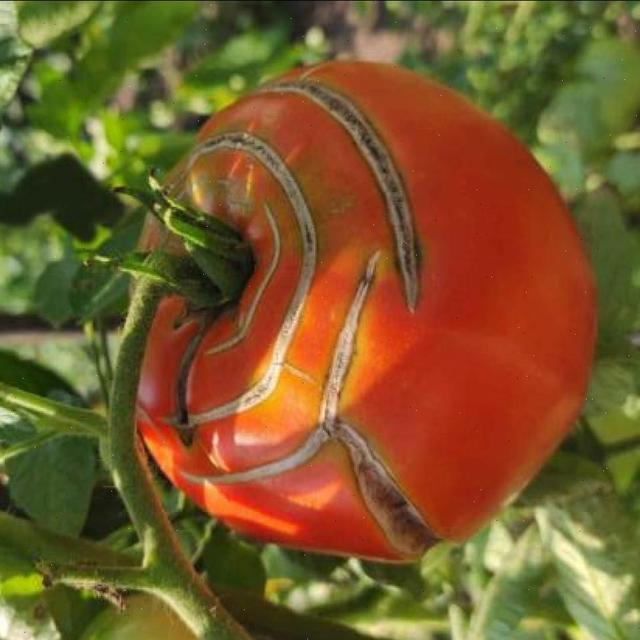Cracking Fruit: (129, 130, 218, 242)
